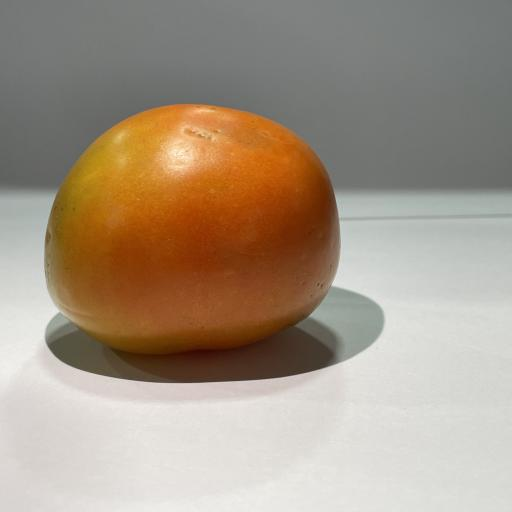unripe: (45, 104, 340, 354)
